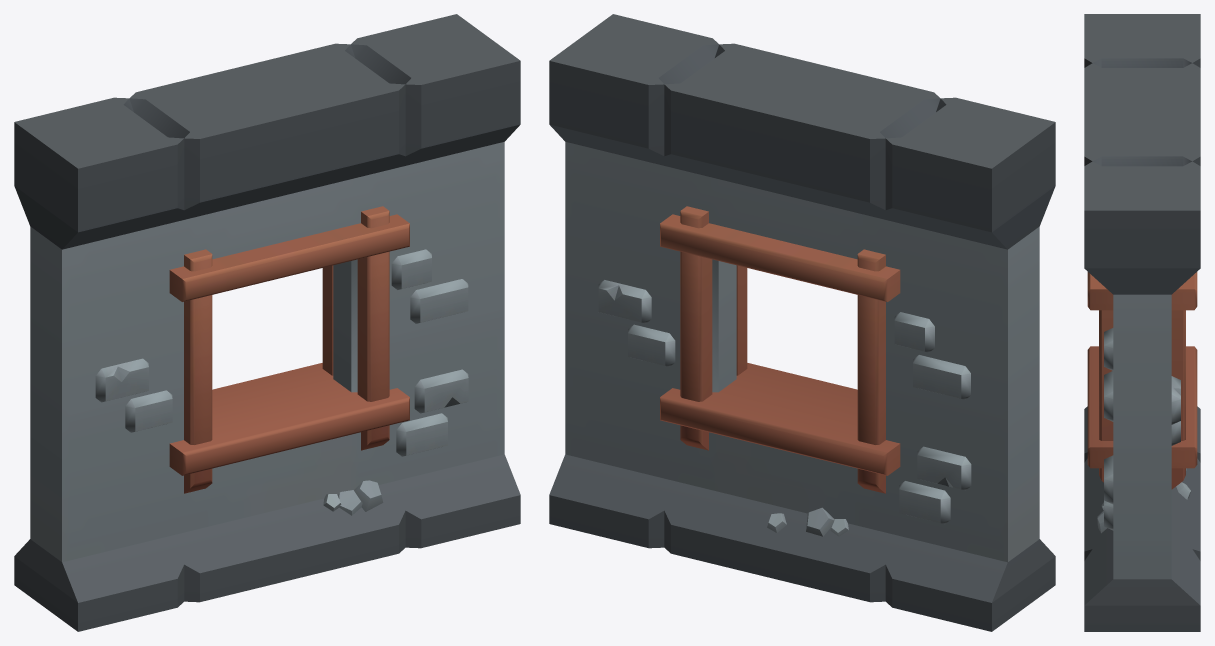
The model's file is kaykit-dungeon-remastered-wall-window-open-gltf.glb.
The picture shows the model from 3 angles, left to right: view 1: azimuth 30°, elevation 25°; view 2: azimuth 150°, elevation 25°; view 3: azimuth 270°, elevation 25°; orthographic projection. The views are drawn at different scales.
Parts seen in each view (by area): view 1: wall_window_open; view 2: wall_window_open; view 3: wall_window_open.
Boxes of the visible parts, <box> form: wall_window_open: <box>14,14,520,631</box>; wall_window_open: <box>549,14,1055,631</box>; wall_window_open: <box>1084,14,1200,631</box>.
Size of the model in its own units: 4 by 4 by 1.
Materials: 1 (1 with a texture image).
